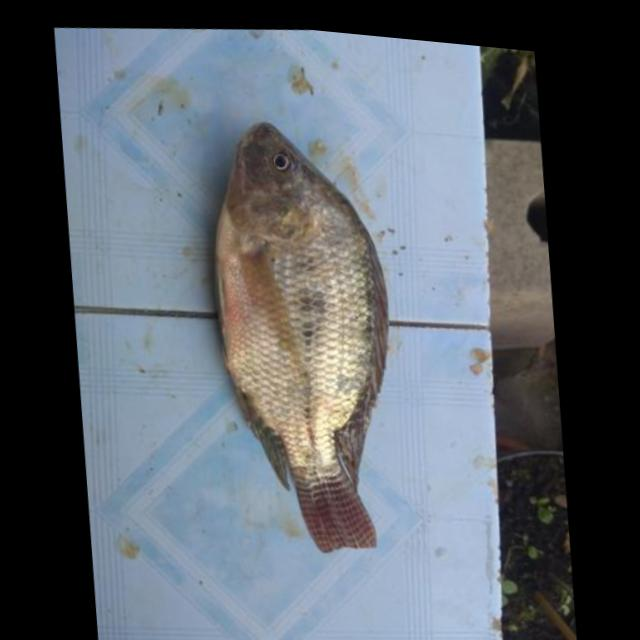Tilapia: (193, 101, 411, 570)
